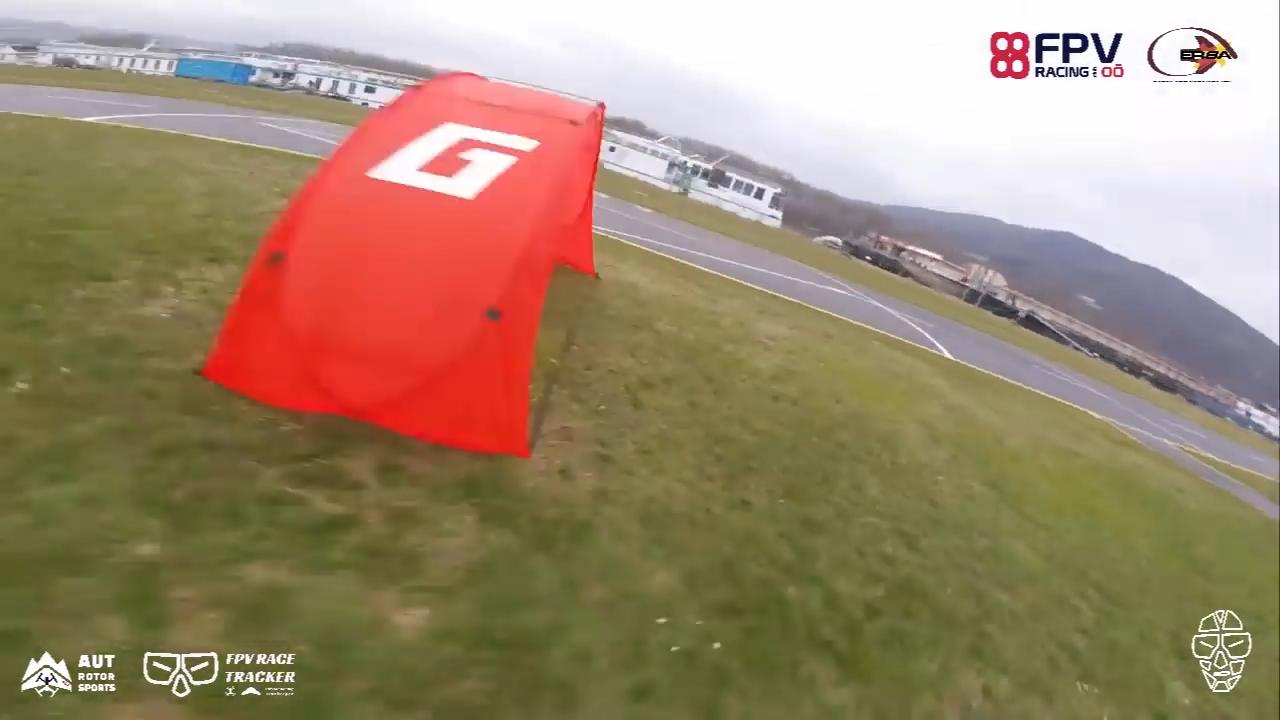gate: (201, 70, 605, 467)
